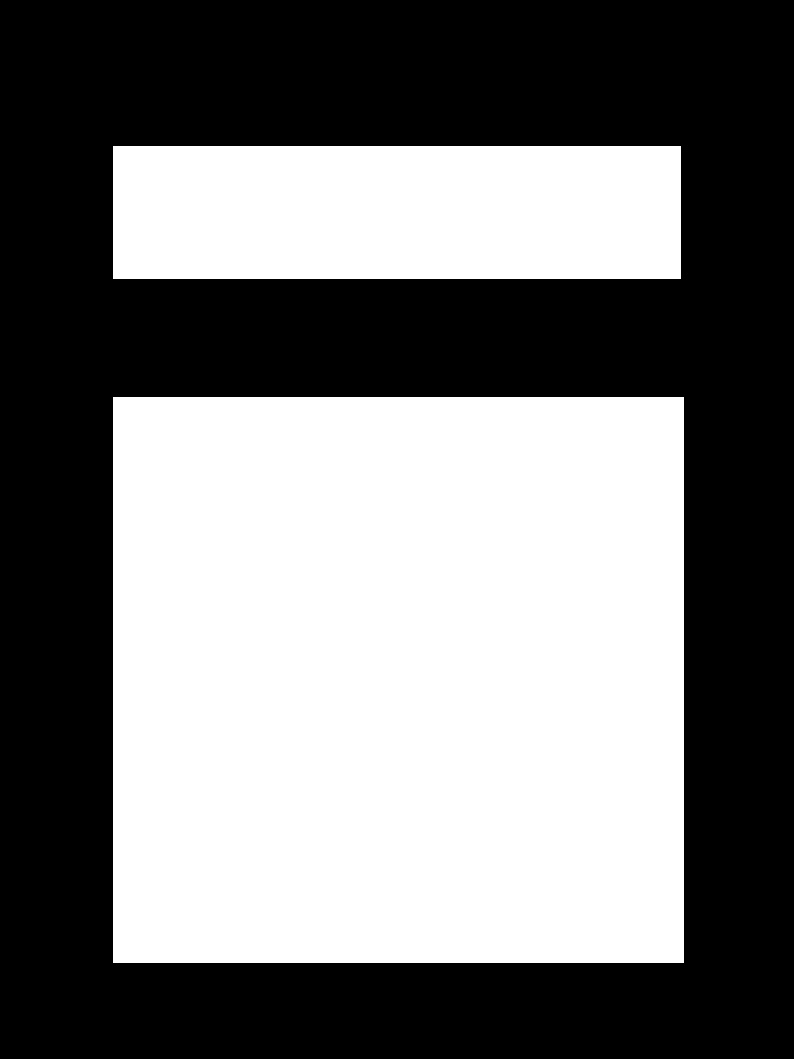table: (113, 397, 683, 962), (113, 146, 680, 278)
